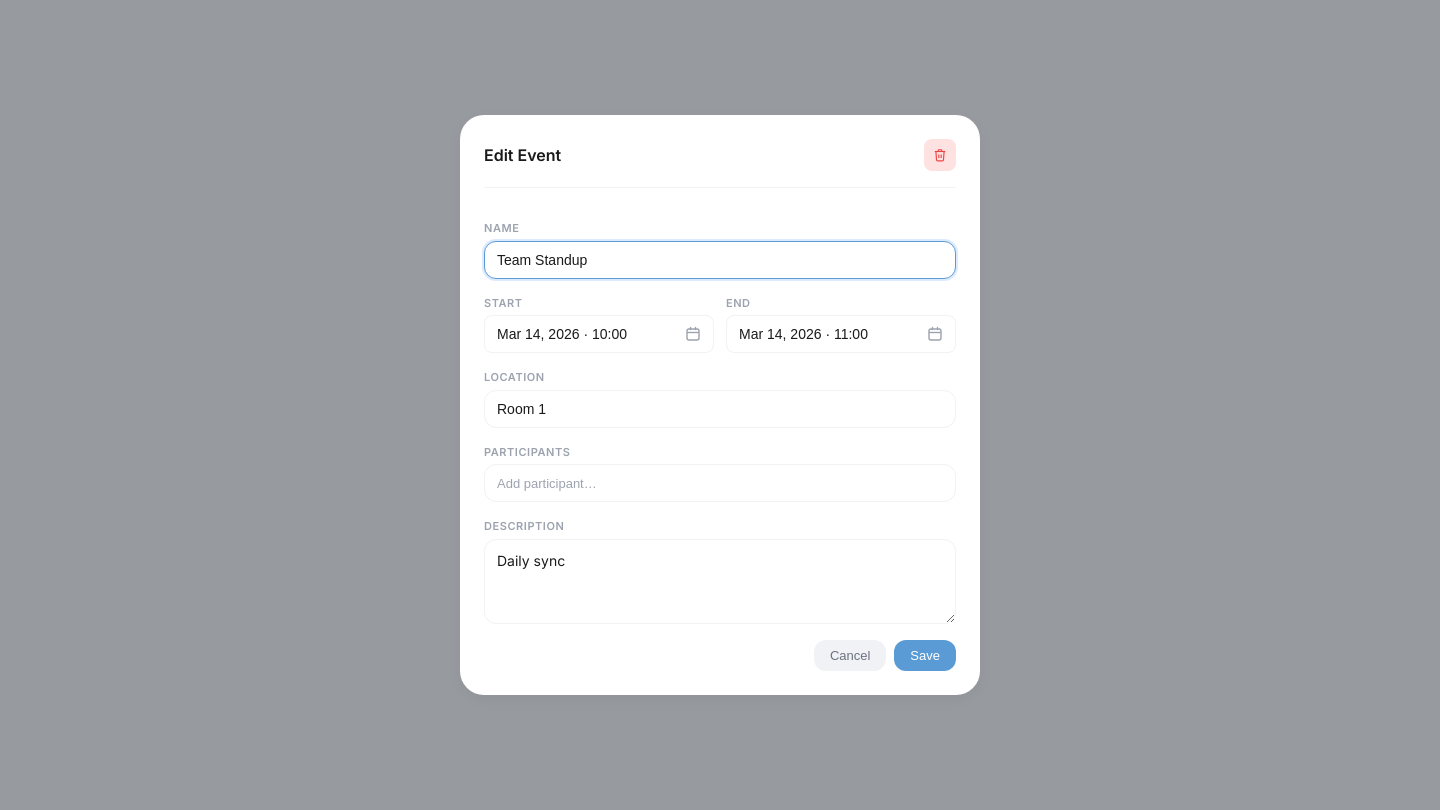
EventEditModal — participants › adds a participant when Enter is pressed in the input
Step 1. Type "bob@example.com" into the field with placeholder "Add participant…" → (720, 483), box [495,475,945,492]
Then press Enter
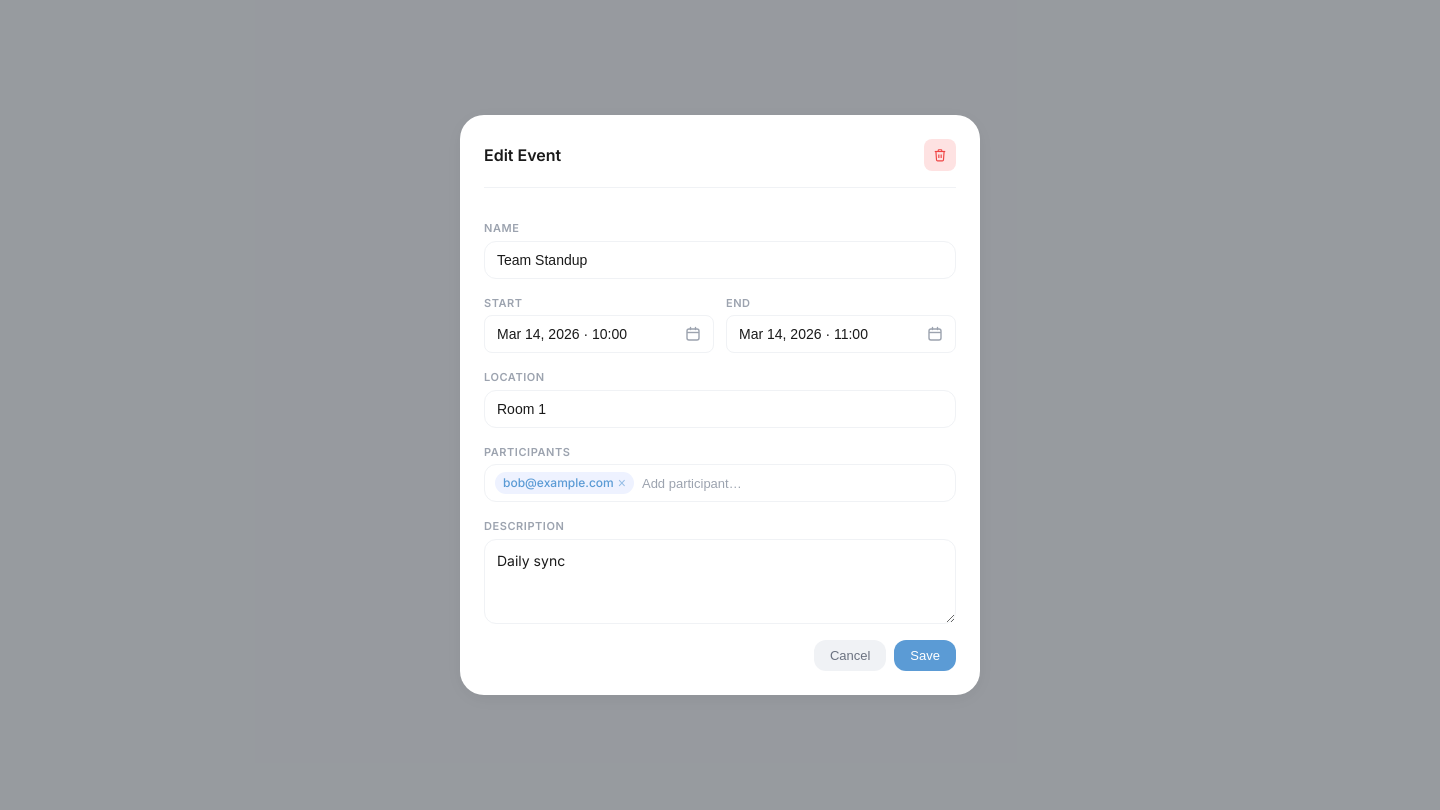
Result: the text "bob@example.com" is shown at [503,475,614,490]
